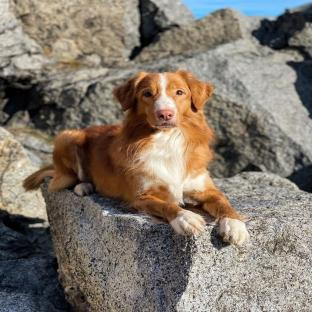Animal: (23, 70, 249, 246)
